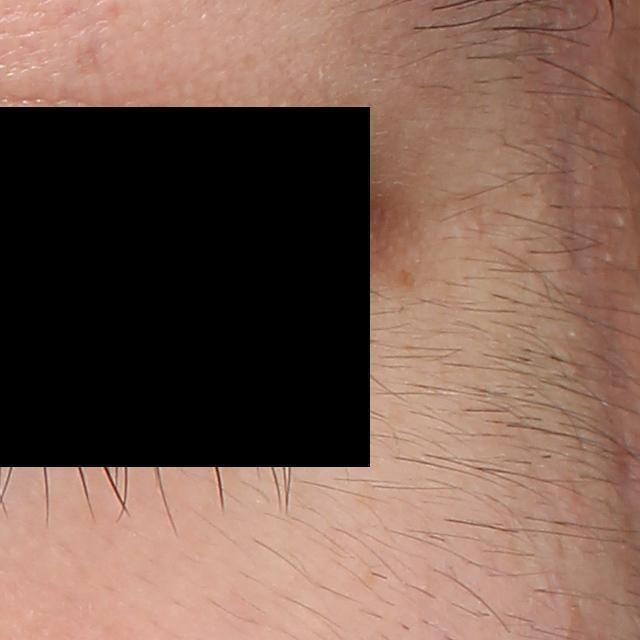melasma: (394, 265, 415, 292)
